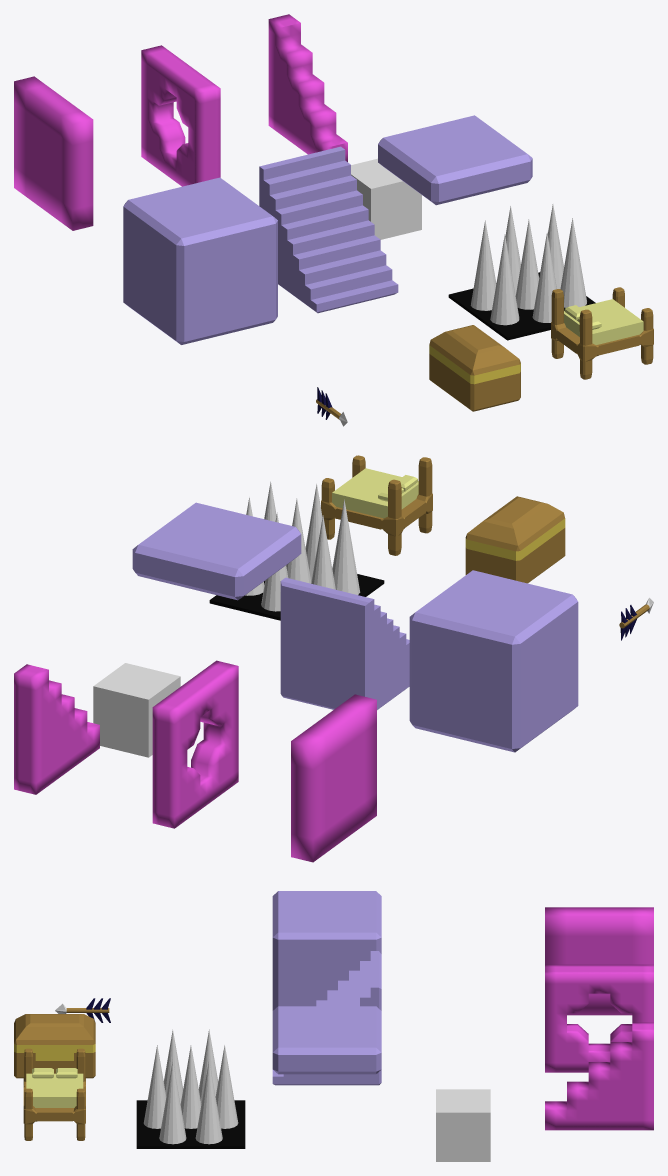
The model's file is StageBuilder.fbx.
3 views of the same model, one above another, from view 1: azimuth 30°, elevation 25°; view 2: azimuth 150°, elevation 25°; view 3: azimuth 270°, elevation 25° (orthographic). The views are drawn at different scales.
Parts seen in each view (by area): view 1: Stage.Brick.World, Stage.Stairs.World, Stage.Wall-Solid-Square.World, Stage.Spikes.World, Stage.Platform.World, Stage.Wall-Solid-Window.World, Stage.Wall-Solid-Triangle.World, Model.Chest, Model.Bed, Cube; view 2: Stage.Brick.World, Stage.Stairs.World, Stage.Wall-Solid-Square.World, Stage.Wall-Solid-Window.World, Stage.Platform.World, Stage.Wall-Solid-Triangle.World, Model.Chest, Model.Bed, Stage.Spikes.World, Cube; view 3: Stage.Brick.World, Stage.Spikes.World, Stage.Wall-Solid-Window.World, Stage.Wall-Solid-Triangle.World, Stage.Platform.World, Stage.Wall-Solid-Square.World, Model.Chest, Model.Bed, Cube, Stage.Stairs.World, Model.Arrow.
Part boxes in pixels (x1,y1,x2,y2): Stage.Brick.World: (123,177,277,344); Stage.Stairs.World: (259,146,398,313); Stage.Wall-Solid-Square.World: (14,76,93,230); Stage.Spikes.World: (448,204,595,340); Stage.Platform.World: (378,115,532,205); Stage.Wall-Solid-Window.World: (141,45,220,186); Stage.Wall-Solid-Triangle.World: (268,14,347,161); Model.Chest: (429,325,520,411); Model.Bed: (551,287,653,379); Cube: (351,158,421,239); Stage.Brick.World: (409,570,578,752); Stage.Stairs.World: (280,577,409,709); Stage.Wall-Solid-Square.World: (291,694,376,862); Stage.Wall-Solid-Window.World: (152,660,238,828); Stage.Platform.World: (132,502,301,600); Stage.Wall-Solid-Triangle.World: (14,664,99,794); Model.Chest: (465,496,565,583); Model.Bed: (321,455,432,555); Stage.Spikes.World: (209,481,384,620); Cube: (93,663,180,757); Stage.Brick.World: (272,891,381,1010); Stage.Spikes.World: (136,1029,245,1148); Stage.Wall-Solid-Window.World: (545,964,653,1072); Stage.Wall-Solid-Triangle.World: (545,1022,653,1130); Stage.Platform.World: (272,1006,381,1074); Stage.Wall-Solid-Square.World: (545,907,653,1015); Model.Chest: (14,1014,95,1078); Model.Bed: (23,1048,85,1140); Cube: (436,1089,490,1161); Stage.Stairs.World: (272,951,381,1085); Model.Arrow: (55,998,110,1022).
Bounding box in the file's own units: 1400 × 500 × 2350.
